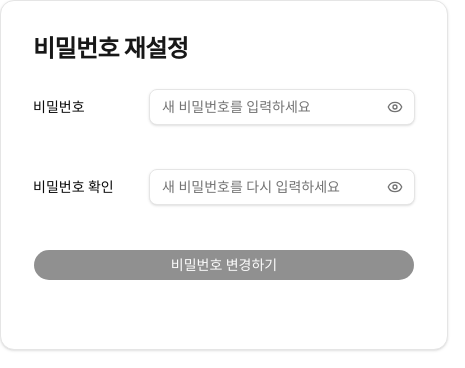
Test: reset-password-form › 유효한 비밀번호와 확인 값을 입력하면 submit 버튼을 활성화한다
Type "valid-password" into the password field labelled "비밀번호" at [282, 107], box [149,89,415,125]
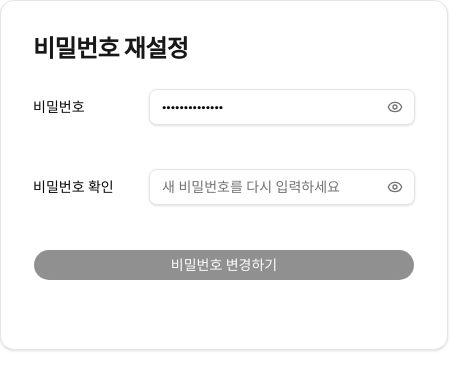
Type "valid-password" into the password field labelled "비밀번호 확인" at [282, 187], box [149,169,415,205]
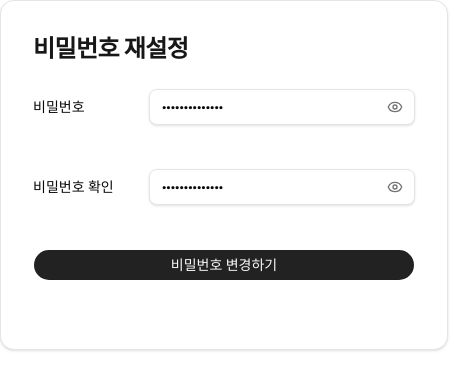
expect the button "비밀번호 변경하기" is enabled: met, box [33,249,415,281]
